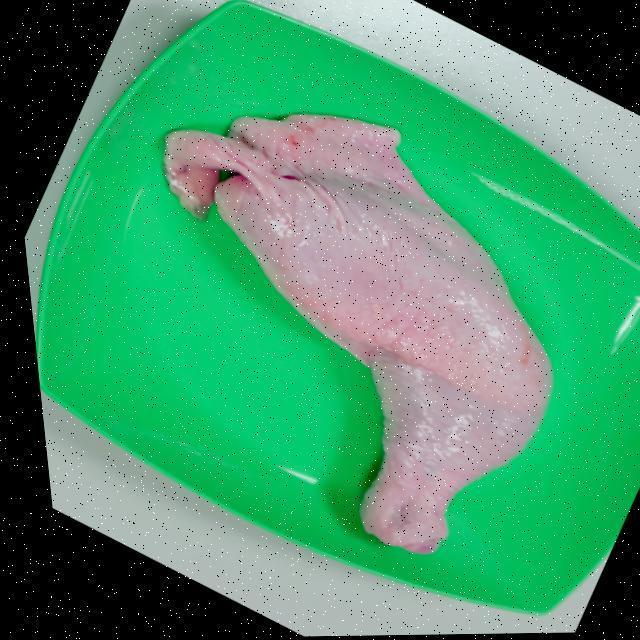quater: (192, 96, 556, 550)
